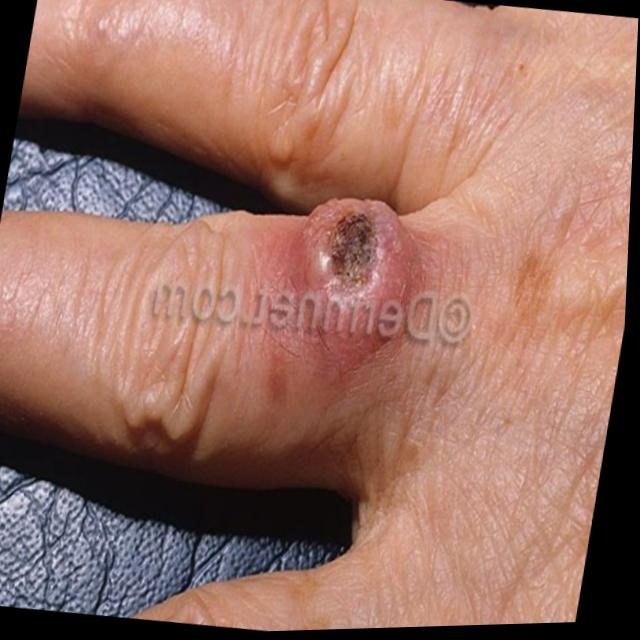Eczema: (320, 186, 410, 331)
